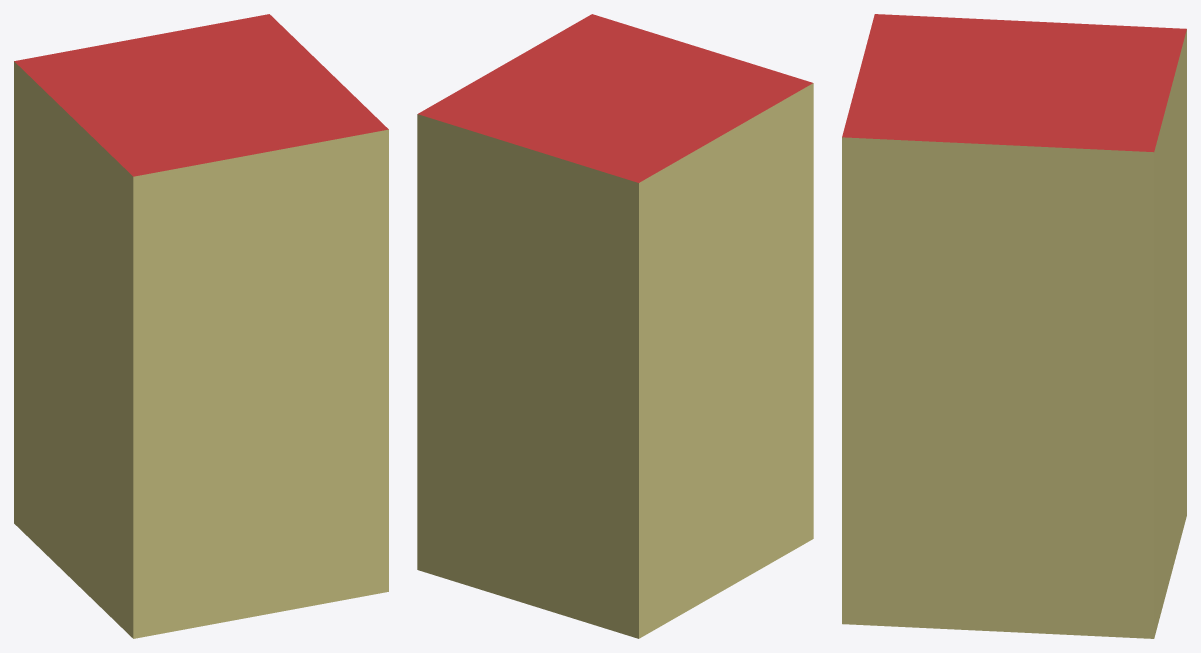
3 views of the same model, side by side, from view 1: azimuth 30°, elevation 25°; view 2: azimuth 150°, elevation 25°; view 3: azimuth 270°, elevation 25° (orthographic). The views are drawn at different scales.
Bounding box in the file's own units: 3.52 × 3.71 × 5.78.
